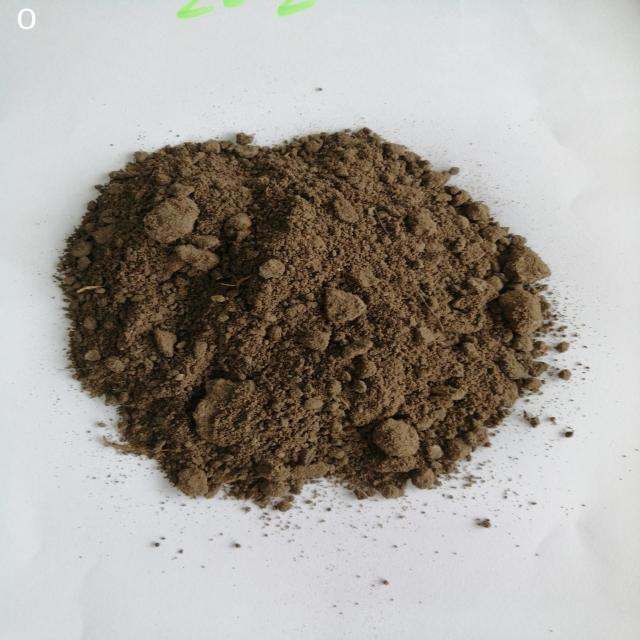soil: (124, 172, 473, 438)
